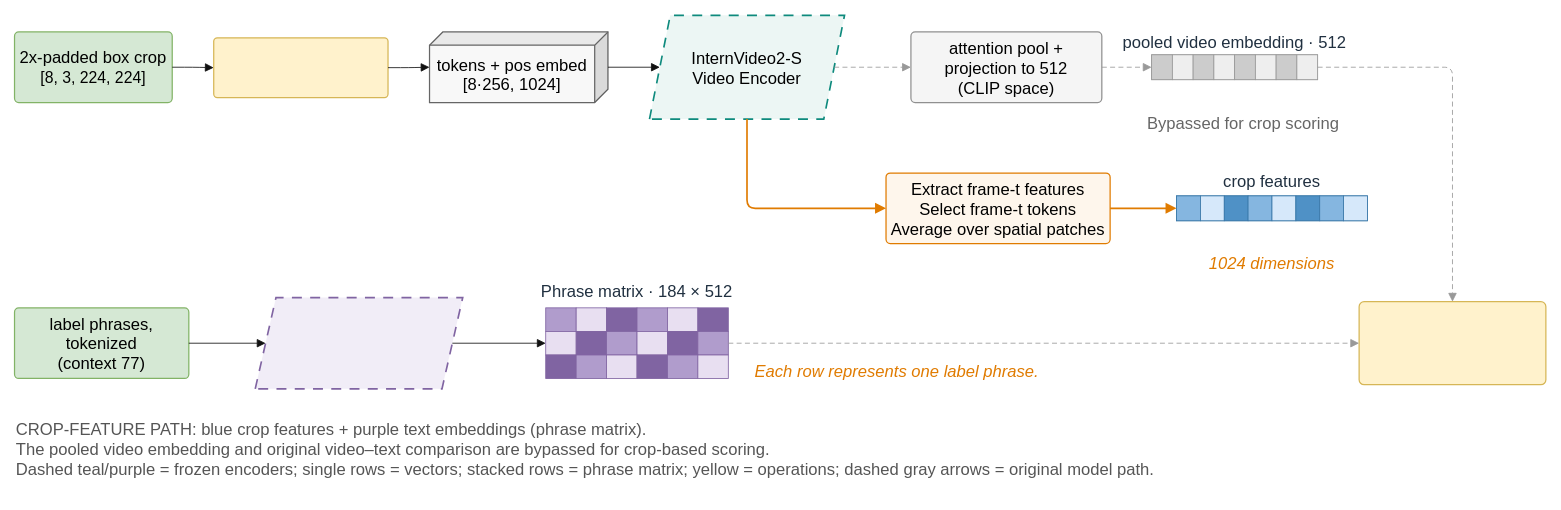
The diagram is 1561 pixels wide and 510 high, and some of its shapes have lost their labels. The shapes that lost their labels are listed below. From the top down, each one's box as (x1, y1, x2, y2) in pixels, then its label:
(213, 37, 388, 98): patch embed 14x14 per frame (tubelet 1)
(254, 296, 463, 389): InternVideo2-S Text Encoder
(1358, 301, 1546, 385): cosine similarity original pretraining path
